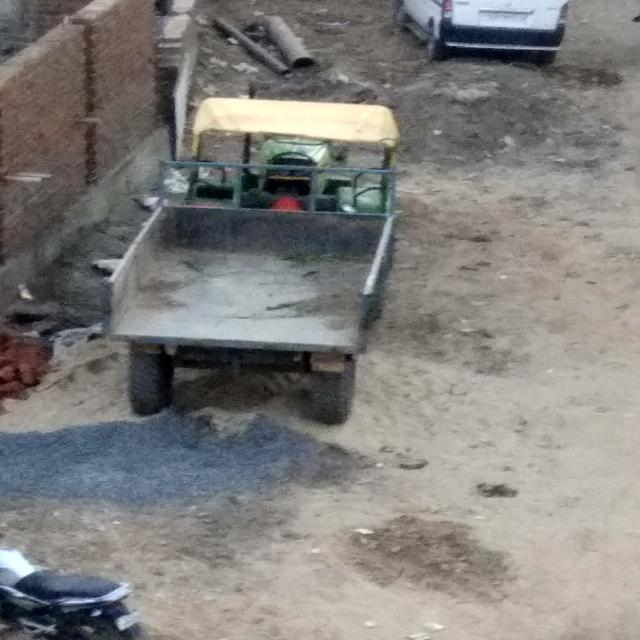car_back: (388, 0, 576, 72)
tractor_back: (100, 82, 413, 427)
